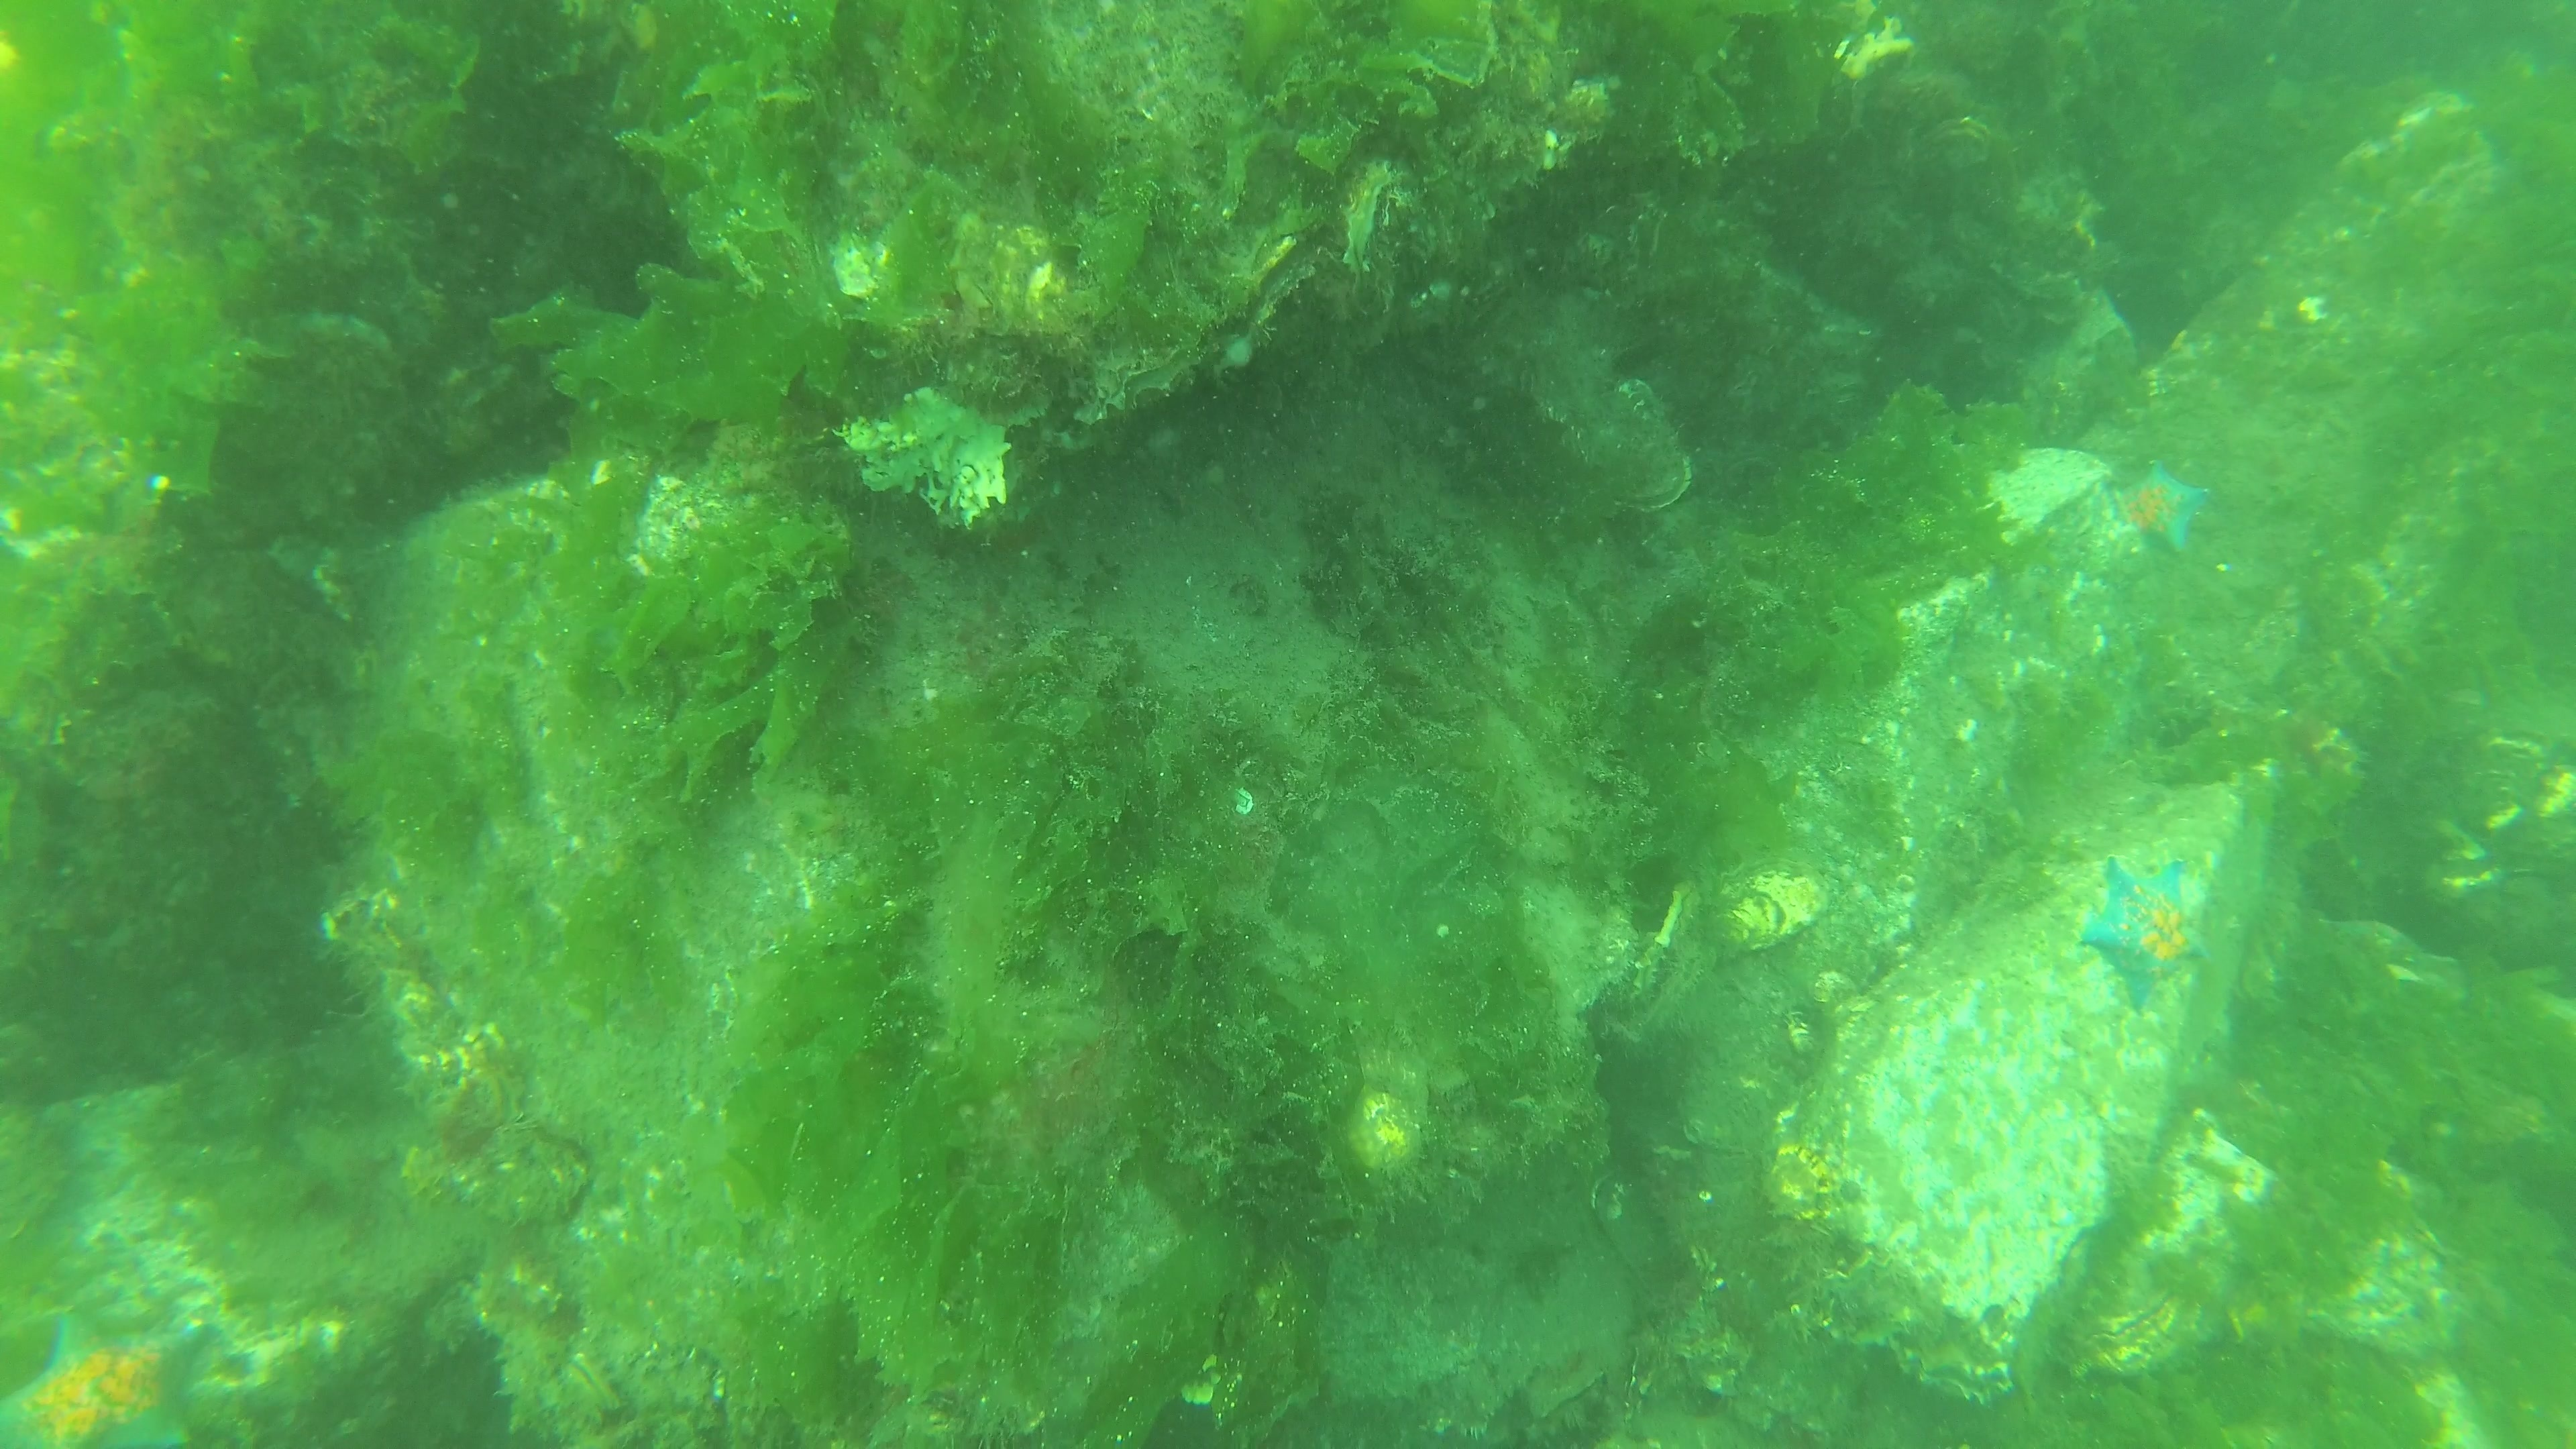starfish: (28, 1307, 214, 1449), (2079, 849, 2212, 1019), (2118, 458, 2219, 557)
